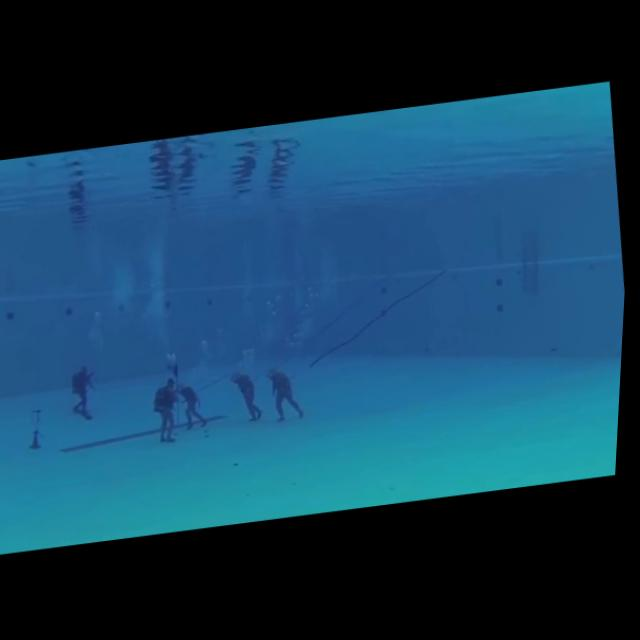human: (256, 356, 316, 431), (145, 371, 192, 450), (166, 371, 221, 438), (63, 357, 108, 430), (229, 364, 273, 431)
